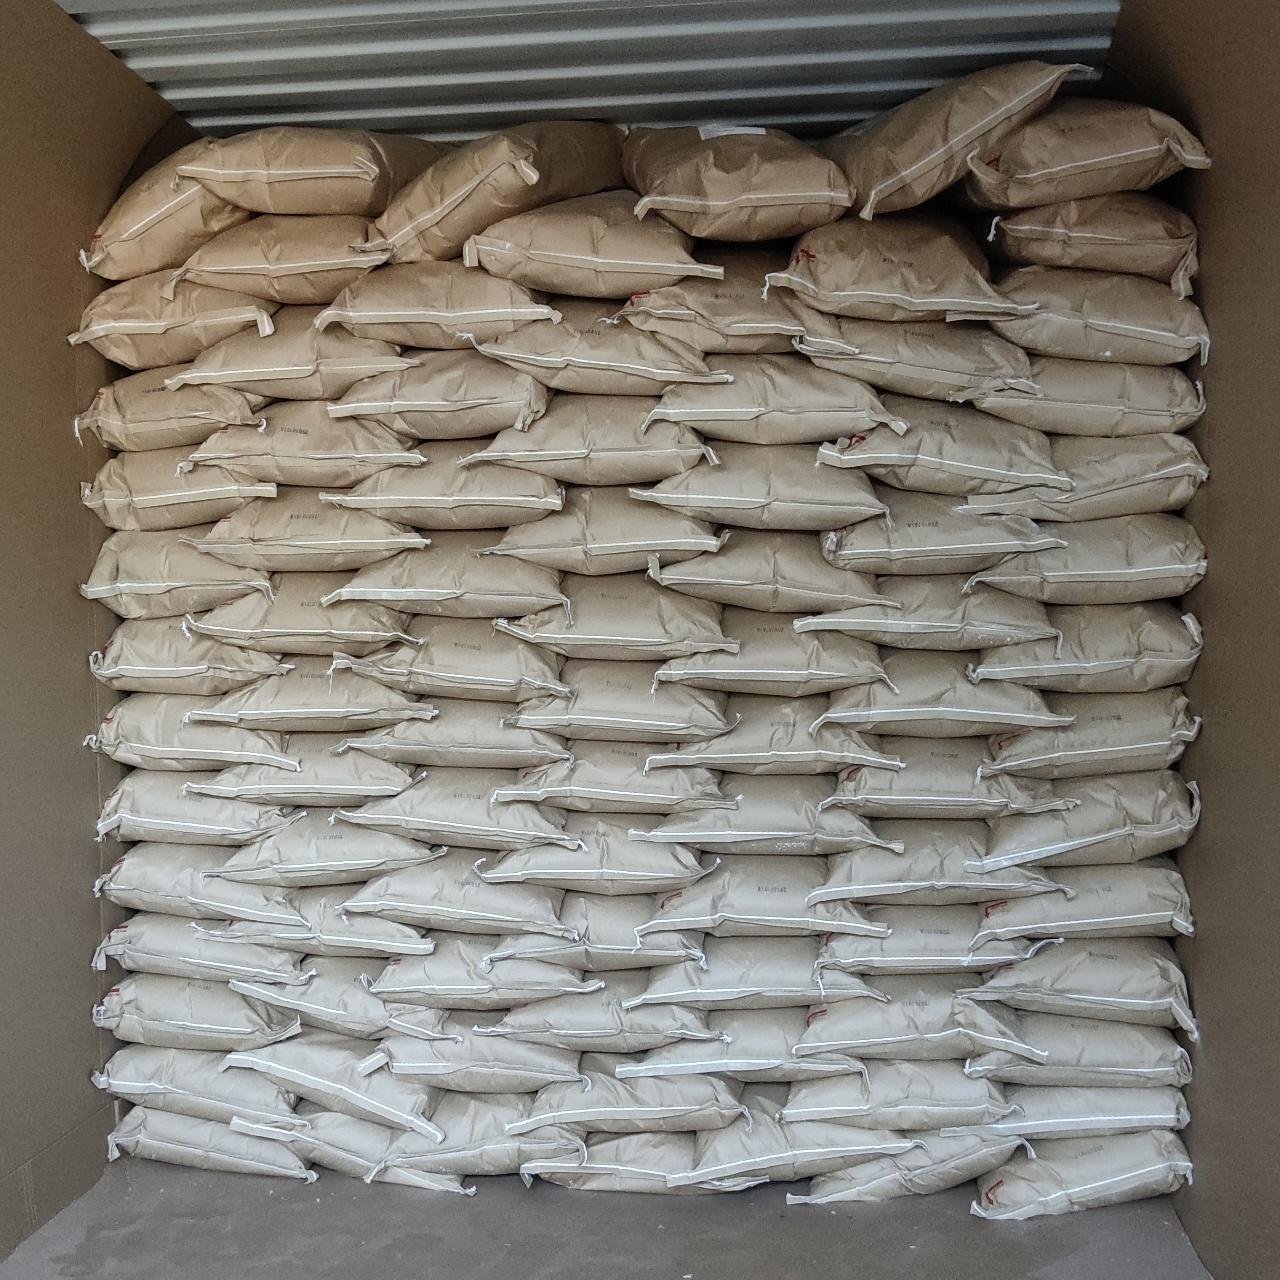sack: (822, 60, 1078, 215), (362, 122, 622, 260), (768, 210, 1034, 318), (958, 100, 1210, 210), (464, 190, 719, 294), (624, 122, 852, 238), (173, 128, 456, 215), (821, 394, 1064, 493), (476, 298, 728, 394), (224, 1032, 438, 1141), (612, 256, 852, 350), (960, 938, 1194, 1034), (974, 770, 1198, 870), (170, 306, 410, 399), (82, 147, 250, 278), (648, 356, 903, 442), (634, 774, 900, 855), (478, 394, 716, 484), (230, 1104, 472, 1192), (824, 484, 1058, 574), (685, 1085, 904, 1182), (822, 736, 1076, 818), (324, 440, 561, 526), (634, 442, 878, 526), (962, 434, 1206, 518), (982, 195, 1196, 290), (986, 268, 1206, 360), (316, 264, 554, 348), (488, 488, 719, 574), (808, 821, 1051, 903), (976, 515, 1204, 602), (498, 574, 731, 660), (826, 648, 1060, 734), (648, 694, 900, 772), (971, 602, 1200, 688), (658, 608, 886, 694), (651, 527, 880, 612), (331, 350, 550, 438), (70, 272, 275, 366), (802, 318, 1036, 400), (190, 402, 422, 484), (478, 812, 710, 894), (974, 1130, 1190, 1218), (982, 688, 1198, 776), (332, 532, 561, 614), (196, 488, 425, 570), (332, 618, 561, 700), (787, 1128, 1024, 1206), (482, 971, 712, 1050), (964, 356, 1204, 433), (648, 856, 880, 934), (346, 768, 574, 847), (352, 847, 561, 934), (796, 576, 1054, 646), (232, 956, 452, 1039), (178, 216, 386, 302), (978, 856, 1190, 940), (186, 658, 430, 730), (192, 572, 408, 654), (628, 938, 886, 1006), (215, 810, 444, 886), (360, 1012, 583, 1090), (366, 932, 602, 1006), (799, 976, 1024, 1054), (515, 1056, 742, 1132), (493, 742, 736, 812), (622, 1008, 862, 1078), (518, 660, 726, 740), (966, 1012, 1190, 1085), (186, 734, 420, 804), (488, 894, 702, 971), (82, 527, 270, 614), (778, 1060, 1008, 1130), (210, 884, 430, 956), (818, 904, 1046, 974), (108, 1107, 318, 1182), (394, 1092, 584, 1175), (91, 1044, 294, 1121), (76, 366, 268, 445), (96, 770, 302, 844), (336, 700, 568, 765), (82, 448, 275, 526), (90, 618, 290, 694), (84, 694, 294, 765), (94, 914, 312, 982), (94, 844, 294, 918), (522, 1132, 760, 1194), (94, 976, 300, 1048), (978, 1085, 1189, 1141)
